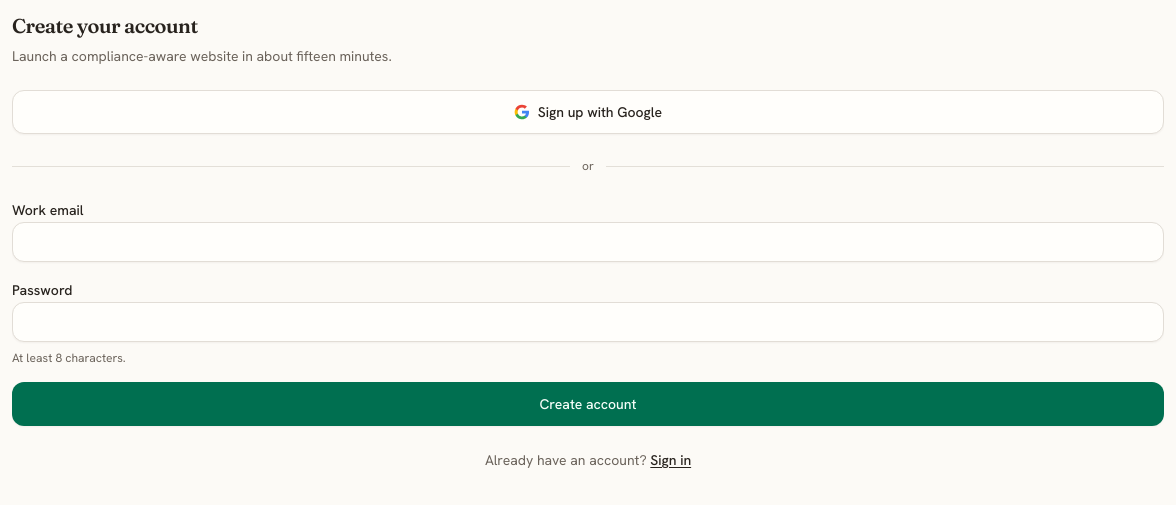
Scenario: <SignupForm /> › shows inline validation and does not submit when fields are invalid
Click the button "Create account" at (588, 404), box [12,382,1164,426]
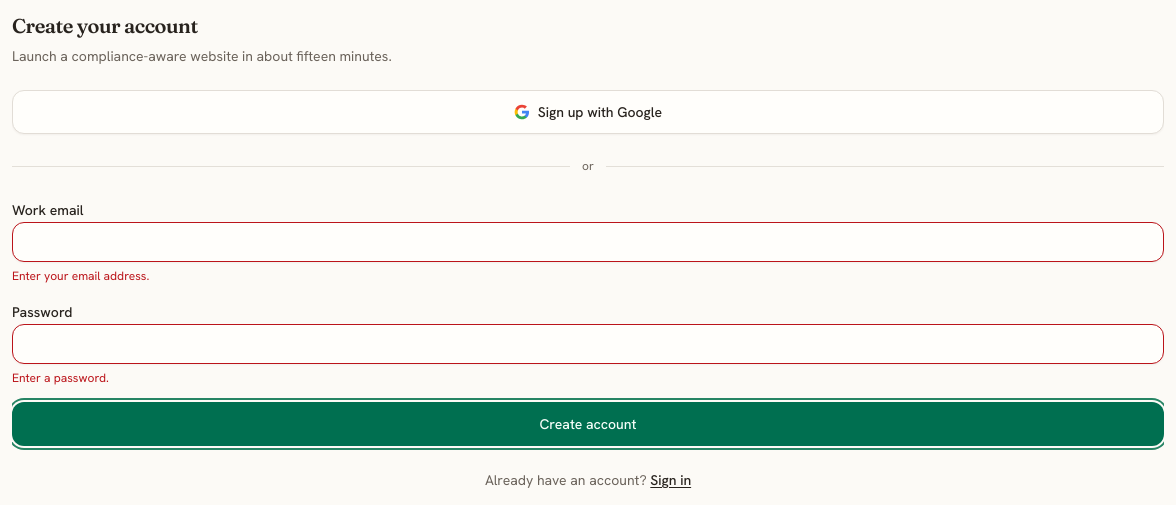
Expected: the text "Enter your email address." is shown, [12,268,149,284]
Expected: the text "Enter a password." is shown, [12,370,109,386]
